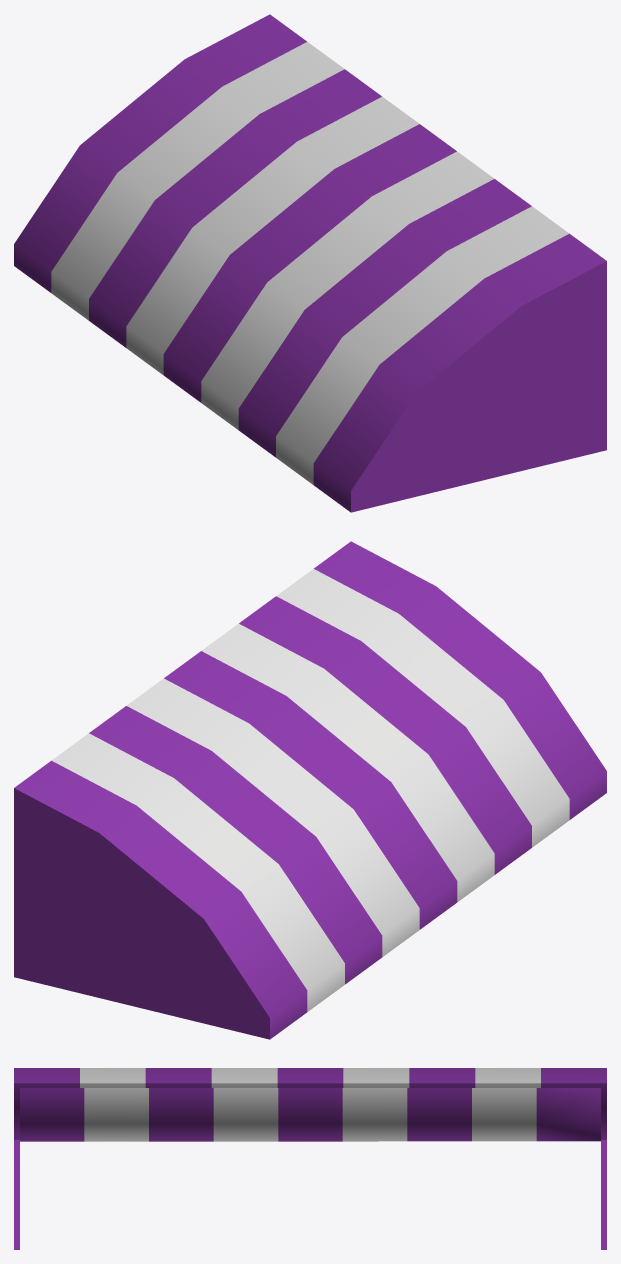
File: Awning_1_L.glb
The picture shows the model from 3 angles, top to bottom: view 1: azimuth 30°, elevation 25°; view 2: azimuth 150°, elevation 25°; view 3: azimuth 270°, elevation 25°; orthographic projection. The views are drawn at different scales.
Parts seen in each view (by area): view 1: Awning_1_L; view 2: Awning_1_L; view 3: Awning_1_L.
Boxes of the visible parts, x1,y1,x2,y2 form: Awning_1_L: (14,14,606,512); Awning_1_L: (14,541,606,1039); Awning_1_L: (14,1068,606,1249).
Size of the model in its own units: 1.23 by 0.8657 by 2.8.
2 materials, 2 textured.
